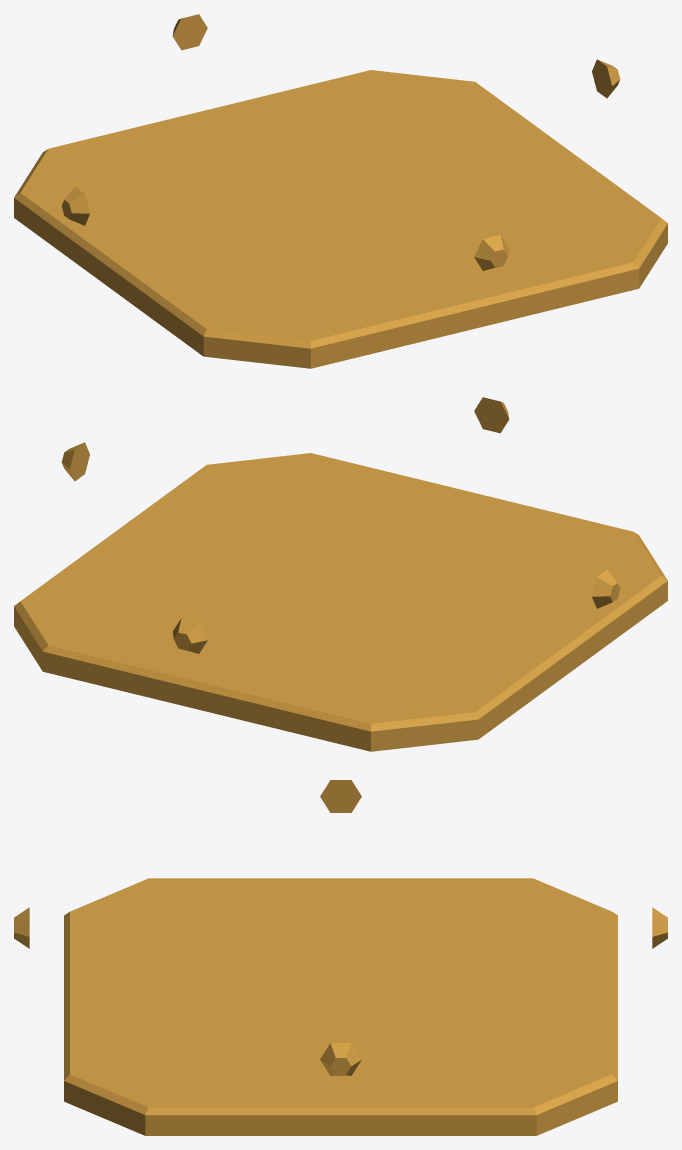
Rendered from SniperKit3.obj.
3 views of the same model, one above another, from view 1: azimuth 30°, elevation 25°; view 2: azimuth 150°, elevation 25°; view 3: azimuth 270°, elevation 25° (orthographic). The views are drawn at different scales.
Visible parts, largest first — view 1: SniperKit3; view 2: SniperKit3; view 3: SniperKit3.
Part boxes in pixels (x1,y1,x2,y2): SniperKit3: (14, 14, 667, 368); SniperKit3: (14, 397, 667, 751); SniperKit3: (14, 780, 667, 1135).
Size of the model in its own units: 0.685 by 0.1241 by 0.685.
